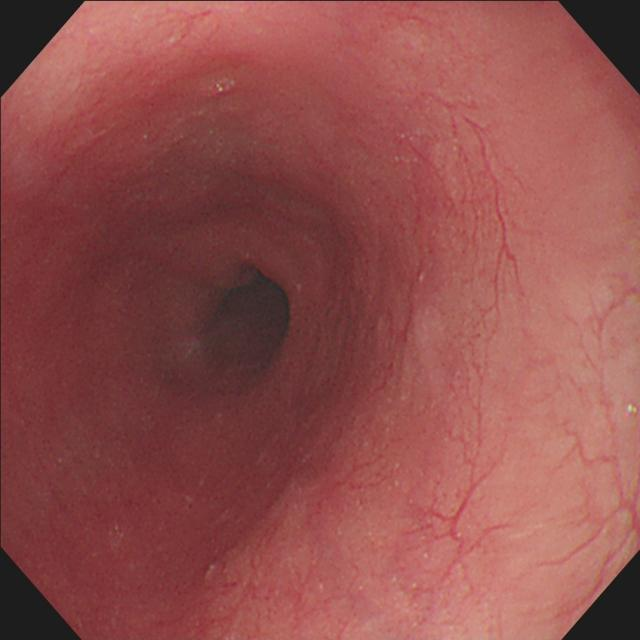E: (200, 266, 292, 374)
